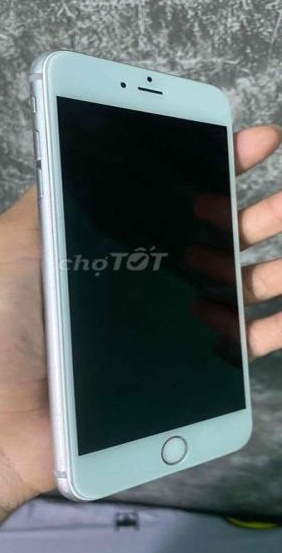scratch: (16, 49, 64, 79)
